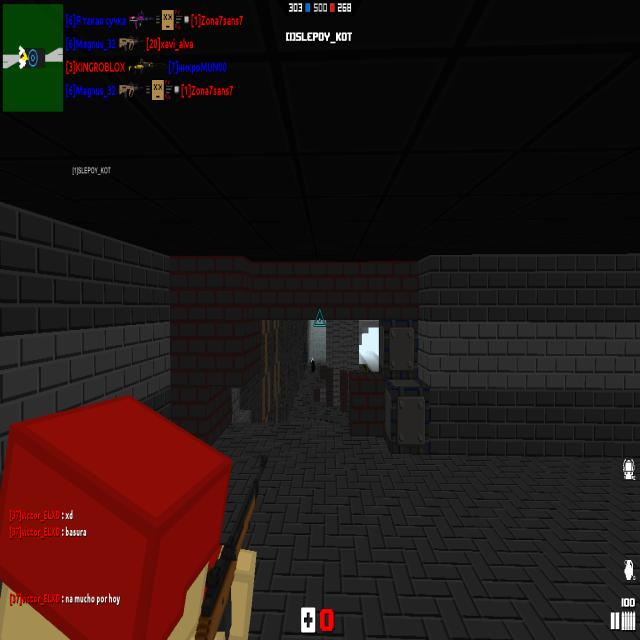enemy: (310, 356, 316, 373)
